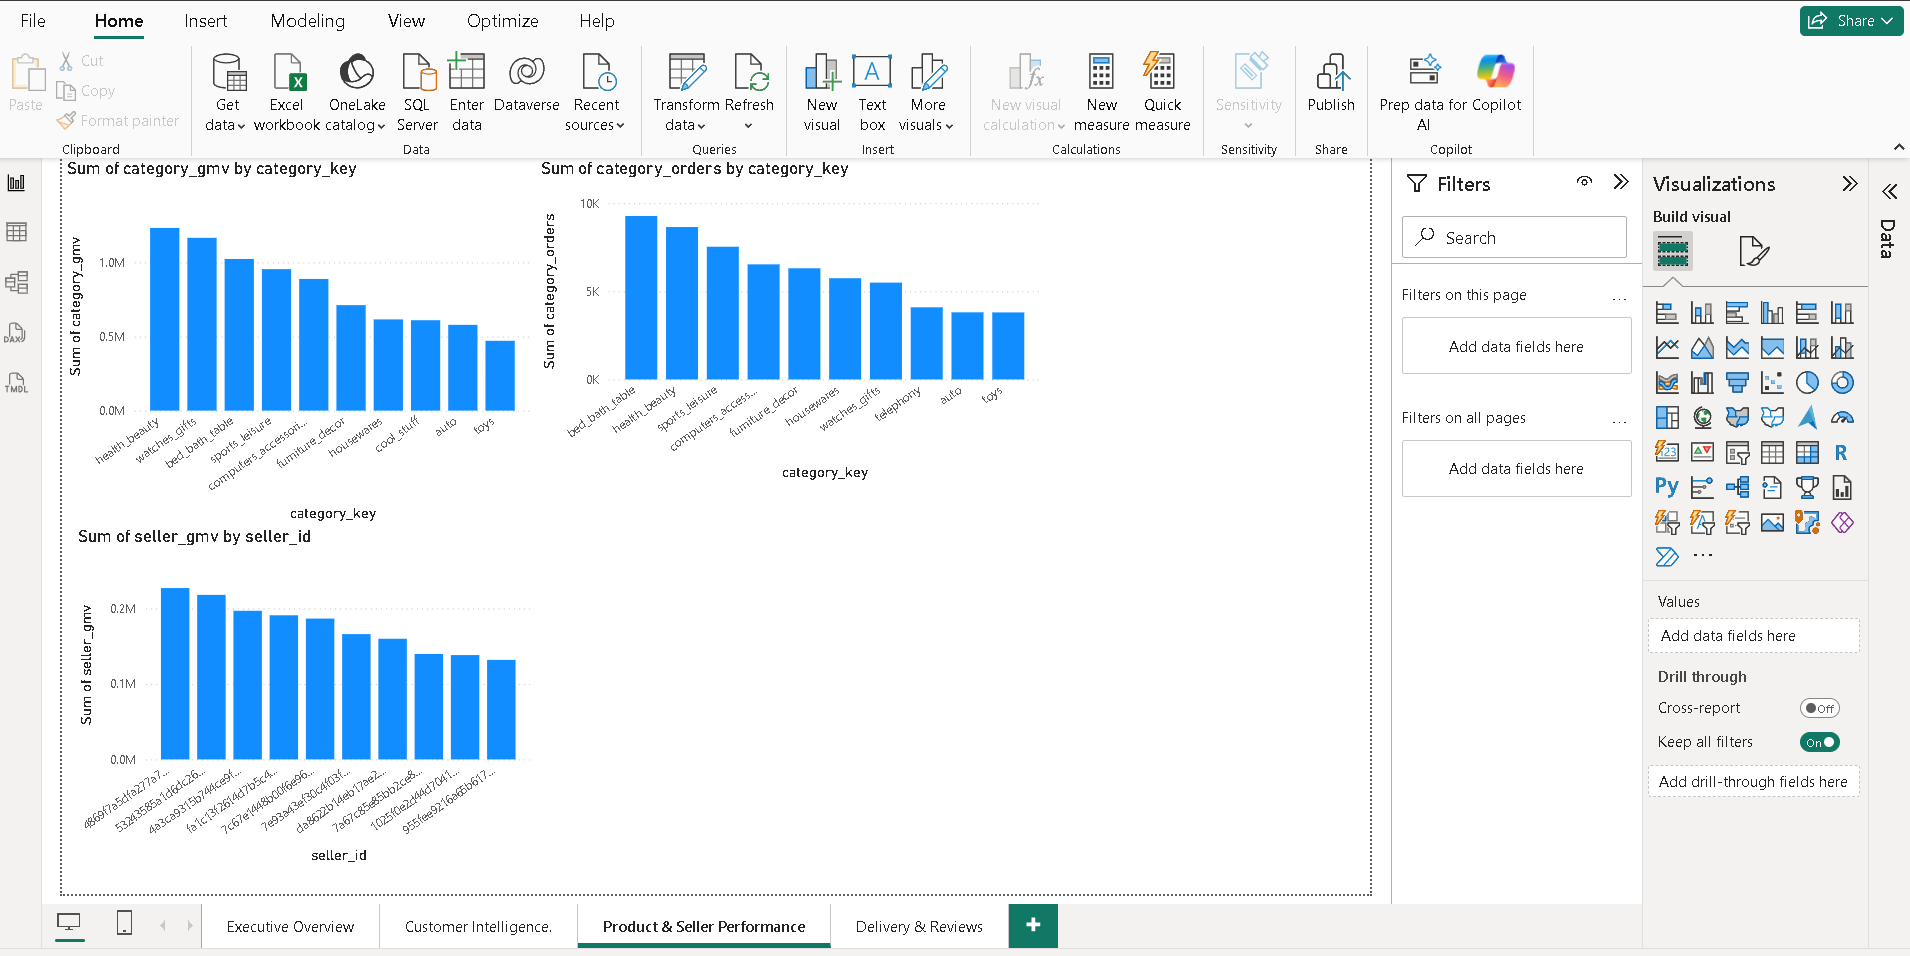

Layout of this report page (visuals, bound fields, positions):
{"tool":"powerbi","page":{"name":"Product & Seller Performance","canvas":[1280,720],"ordinal":2},"visuals":[{"type":"columnChart","fields":{"Category":["dim_category.category_key"],"Y":["Sum(fact_category_economics.category_gmv)"]},"box":[0,0,463.2,359.9],"z":0},{"type":"columnChart","fields":{"Category":["dim_seller.seller_id"],"Y":["Sum(fact_seller_performance.seller_gmv)"]},"box":[11,359.5,452.6,335.6],"z":1},{"type":"columnChart","fields":{"Category":["dim_category.category_key"],"Y":["Sum(fact_category_economics.category_orders)"]},"box":[463.2,0,499.7,320.5],"z":2}]}

Visuals, with their boxes on the page's 1280x720 design canvas (x1, y1, x2, y2). These are canvas units, not pixel positions in the 1910x956 screenshot, which may show the page scaled, cropped or inside an application window:
columnChart - dim_category.category_key x Sum(fact_category_economics.category_gmv): 0 0 463 360
columnChart - dim_seller.seller_id x Sum(fact_seller_performance.seller_gmv): 11 360 464 695
columnChart - dim_category.category_key x Sum(fact_category_economics.category_orders): 463 0 963 320
